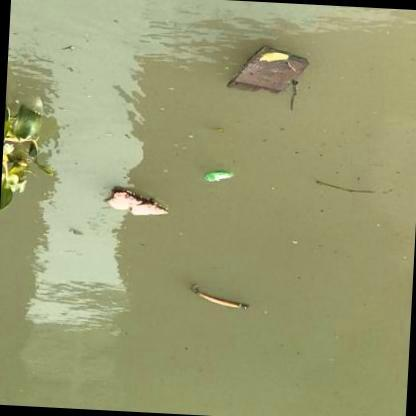Trash: (224, 43, 312, 93), (103, 187, 169, 217), (204, 166, 235, 184)
